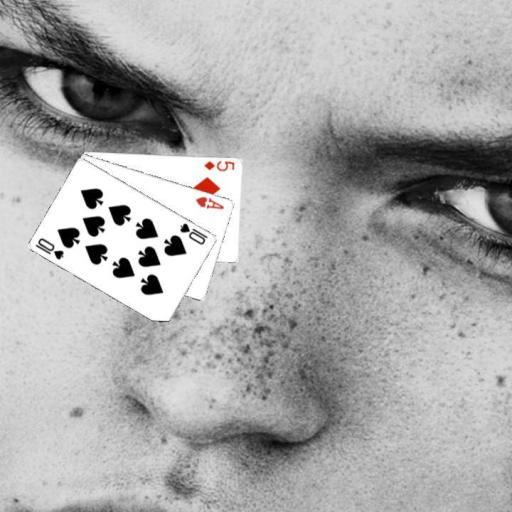10S: (177, 220, 210, 246), (33, 235, 65, 261)
5D: (201, 157, 236, 173)
AH: (193, 194, 225, 211)
